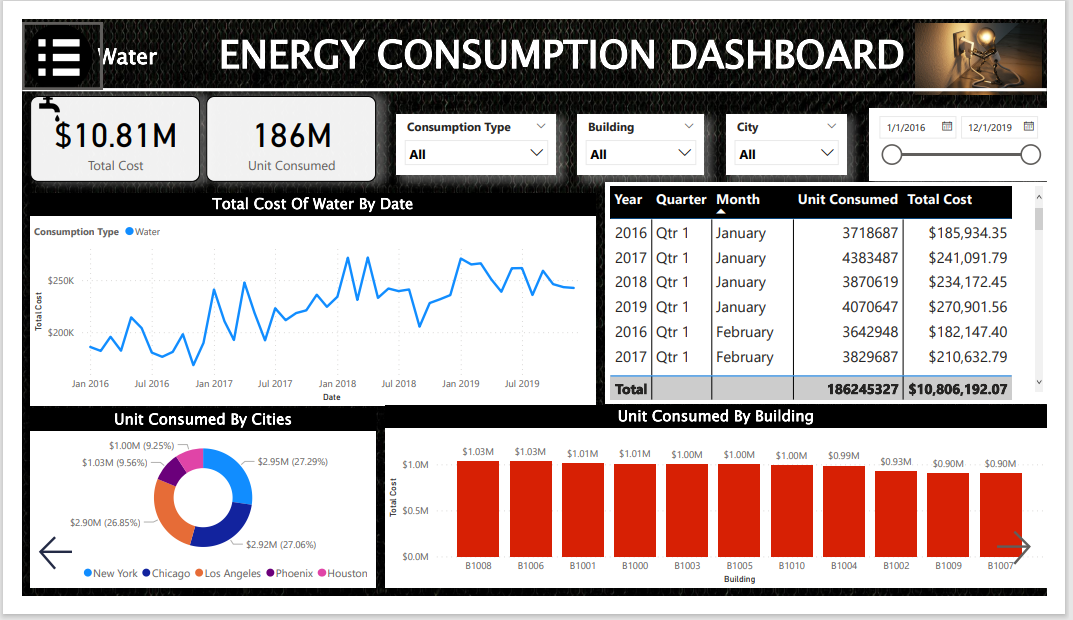

Layout of this report page (visuals, bound fields, positions):
{"tool":"powerbi","page":{"name":"Water","canvas":[1280,720],"ordinal":1},"visuals":[{"type":"image","box":[1110.3,0,169.7,99.1],"z":0},{"type":"card","fields":{"Values":["Energy Consumptions.Total Cost"]},"box":[9.6,96.3,212,107.4],"z":0,"group":"g1"},{"type":"image","box":[0,0,92.4,95.7],"z":1000},{"type":"card","fields":{"Values":["Energy Consumptions.Unit Consumed"]},"box":[229.8,96.3,212,107.4],"z":1000,"group":"g1"},{"type":"textbox","box":[42.7,22,177.5,77.1],"z":2000},{"type":"slicer","fields":{"Values":["Energy Consumptions.Consumption Type"]},"box":[467.9,119.7,198.2,74.3],"z":2000,"group":"g1"},{"type":"shape","box":[0,77.1,1280,22],"z":3000},{"type":"slicer","fields":{"Values":["Energy Consumptions.Building"]},"box":[693.6,119.7,158.3,74.3],"z":3000,"group":"g1"},{"type":"textbox","box":[154.5,3.4,1038.1,95.7],"z":4000},{"type":"slicer","fields":{"Values":["Building Master.City"]},"box":[879.4,119.7,150,74.3],"z":4000,"group":"g1"},{"type":"slicer","fields":{"Values":["Energy Consumptions.Date"]},"box":[1058.1,110.8,222,92],"z":5000,"group":"g1"},{"type":"lineChart","title":"Total Cost Of Water By Date","fields":{"Category":["Energy Consumptions.Date"],"Series":["Energy Consumptions.Consumption Type"],"Y":["Energy Consumptions.Total Cost"]},"box":[9.6,217.5,706.1,264.3],"z":5000},{"type":"group","id":"g1","title":"Group 1","box":[9.6,96.3,1270.4,107.4],"z":6000},{"type":"donutChart","title":"Unit Consumed By Cities","fields":{"Category":["Building Master.City"],"Y":["Energy Consumptions.Total Cost"]},"box":[9.6,485.8,432.2,224.3],"z":7000},{"type":"clusteredColumnChart","title":"Unit Consumed By Building","fields":{"Category":["Energy Consumptions.Building"],"Y":["Energy Consumptions.Total Cost"]},"box":[452.8,481.7,827.2,228.5],"z":8000},{"type":"tableEx","fields":{"Values":["Energy Consumptions.Date.Variation.Date Hierarchy.Year","Energy Consumptions.Date.Variation.Date Hierarchy.Quarter","Energy Consumptions.Date.Variation.Date Hierarchy.Month","Energy Consumptions.Unit Consumed","Energy Consumptions.Total Cost"]},"box":[729.5,203.7,550.5,276.6],"z":9000},{"type":"image","box":[0,88,66.7,48],"z":10000},{"type":"actionButton","box":[0,4,100,84],"z":11000},{"type":"actionButton","box":[1210.7,628,54.7,62.7],"z":12000},{"type":"actionButton","box":[16,640,54.7,53.3],"z":13000}]}

Visuals, with their boxes in screenshot pixels (x1, y1, x2, y2), scaled from the page's 1280x720 canvas onto the 1073x620 screenshot:
image: (left=931, top=0, right=1072, bottom=85)
card - Energy Consumptions.Total Cost: (left=8, top=83, right=186, bottom=175)
image: (left=0, top=0, right=77, bottom=82)
card - Energy Consumptions.Unit Consumed: (left=193, top=83, right=370, bottom=175)
textbox: (left=36, top=19, right=185, bottom=85)
slicer - Energy Consumptions.Consumption Type: (left=392, top=103, right=558, bottom=167)
shape: (left=0, top=66, right=1072, bottom=85)
slicer - Energy Consumptions.Building: (left=581, top=103, right=714, bottom=167)
textbox: (left=130, top=3, right=1000, bottom=85)
slicer - Building Master.City: (left=737, top=103, right=863, bottom=167)
slicer - Energy Consumptions.Date: (left=887, top=95, right=1072, bottom=175)
"Total Cost Of Water By Date" lineChart: (left=8, top=187, right=600, bottom=415)
"Group 1" group: (left=8, top=83, right=1072, bottom=175)
"Unit Consumed By Cities" donutChart: (left=8, top=418, right=370, bottom=611)
"Unit Consumed By Building" clusteredColumnChart: (left=380, top=415, right=1072, bottom=612)
tableEx - Energy Consumptions.Date.Variation.Date Hierarchy.Year x Energy Consumptions.Date.Variation.Date Hierarchy.Quarter: (left=612, top=175, right=1072, bottom=414)
image: (left=0, top=76, right=56, bottom=117)
actionButton: (left=0, top=3, right=84, bottom=76)
actionButton: (left=1015, top=541, right=1061, bottom=595)
actionButton: (left=13, top=551, right=59, bottom=597)
